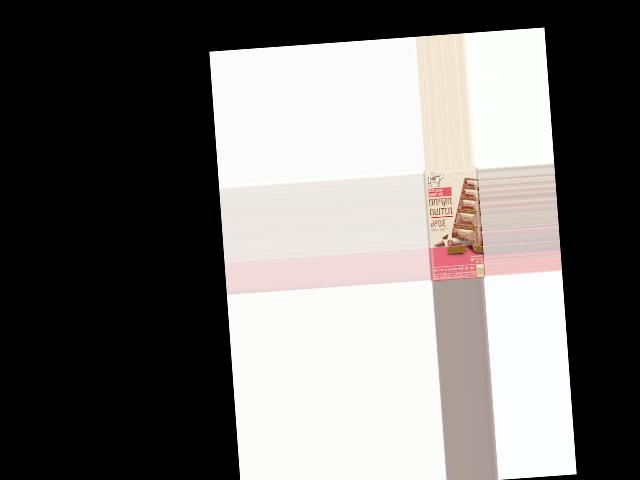chocolate: (422, 166, 484, 280)
